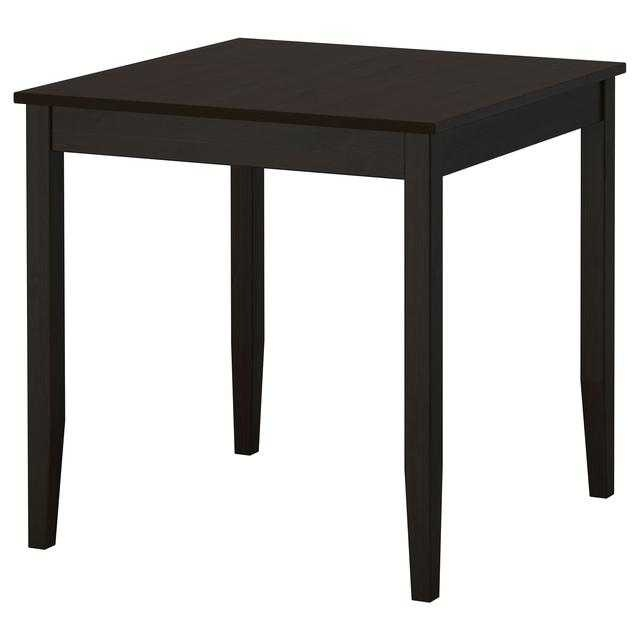obstacle: (15, 39, 624, 601)
